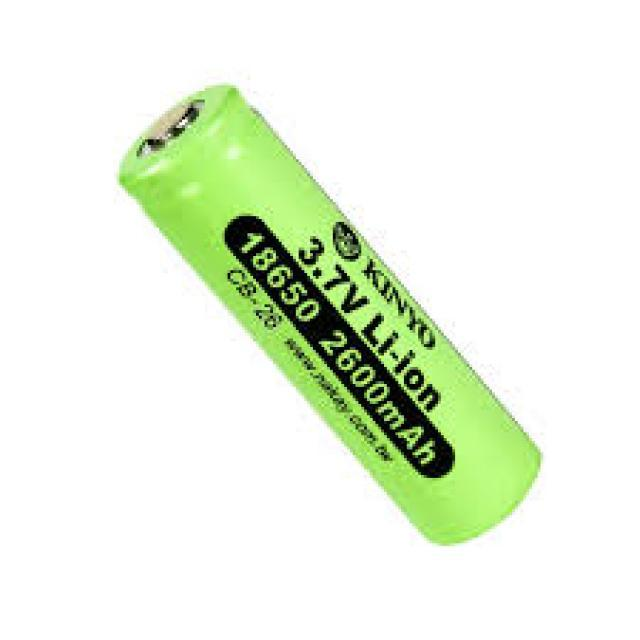battery: (113, 77, 542, 545)
